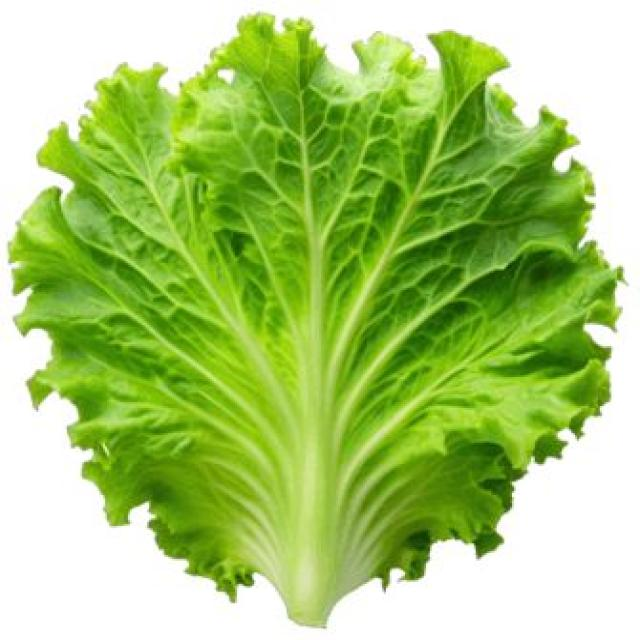lettuce: (12, 16, 618, 624)
